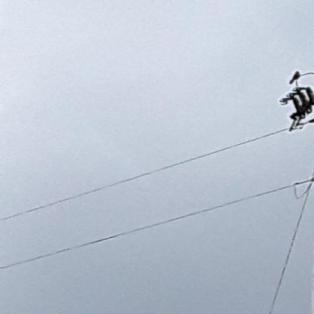Poste: (287, 90, 314, 314)
